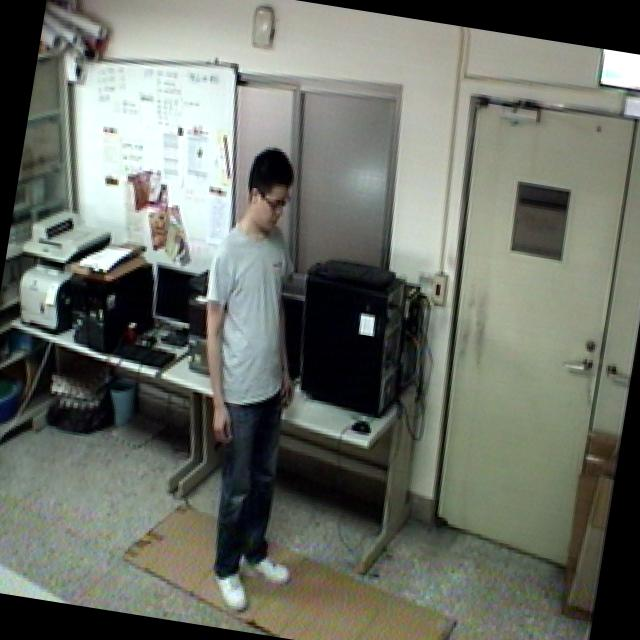stand: (157, 136, 366, 626)
